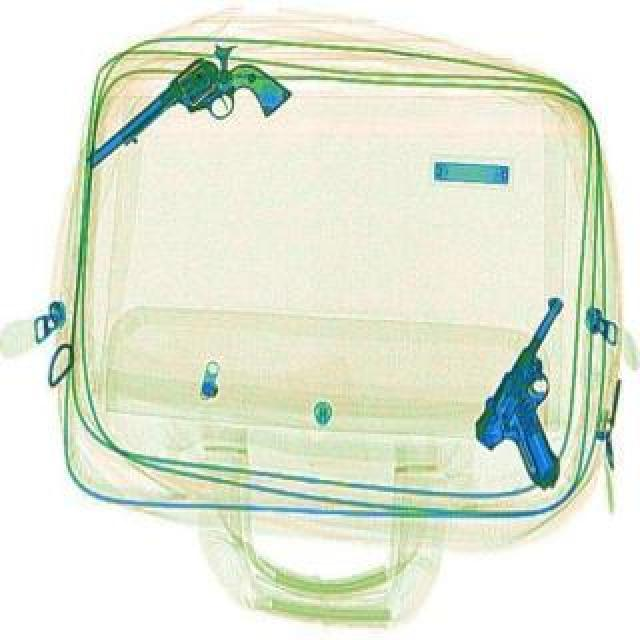gun: (82, 38, 294, 228), (460, 298, 640, 500)
